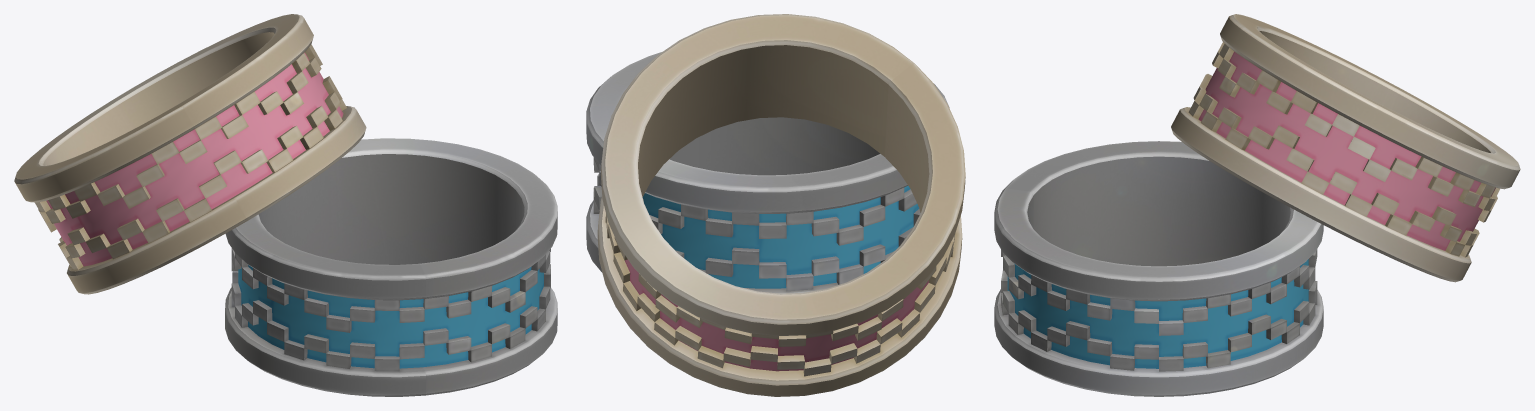
Rendered from Fantasy Rings.fbx.
3 views of the same model, side by side, from view 1: azimuth 30°, elevation 25°; view 2: azimuth 150°, elevation 25°; view 3: azimuth 270°, elevation 25° (orthographic). The views are drawn at different scales.
Parts seen in each view (by area): view 1: Ring001, Ring002; view 2: Ring002, Ring001; view 3: Ring001, Ring002.
Boxes of the visible parts, x1,y1,x2,y2 form: Ring001: (225, 138, 557, 396); Ring002: (14, 14, 366, 294); Ring002: (597, 14, 965, 396); Ring001: (586, 52, 949, 293); Ring001: (994, 141, 1323, 396); Ring002: (1171, 14, 1520, 282).
Bounding box in the file's own units: 70.15 × 43.71 × 79.88.
2 materials, 2 textured.
